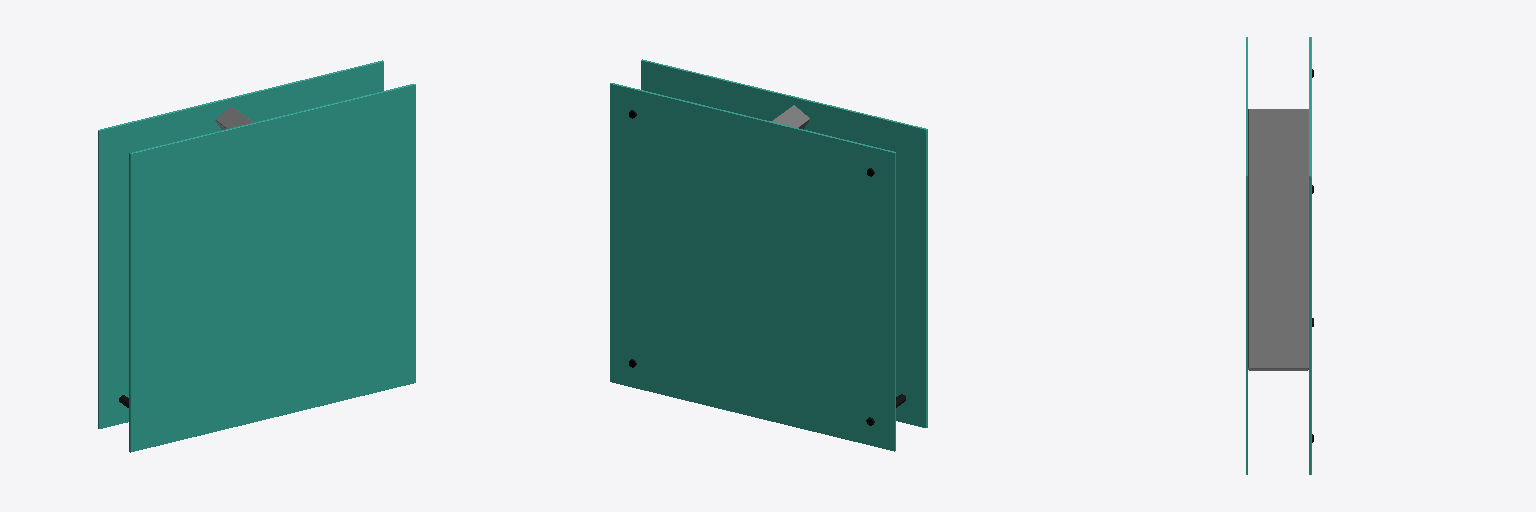
Rendered from Living_Divani_Plane_mat(1).obj.
The picture shows the model from 3 angles: view 1: azimuth 30°, elevation 25°; view 2: azimuth 150°, elevation 25°; view 3: azimuth 270°, elevation 25°; orthographic projection.
Parts seen in each view (by area): view 1: Living_Divani_Plane_mat1; view 2: Living_Divani_Plane_mat1; view 3: Living_Divani_Plane_mat1.
Part boxes in pixels (bbox=[...]): Living_Divani_Plane_mat1: bbox=[98, 60, 415, 452]; Living_Divani_Plane_mat1: bbox=[610, 59, 927, 451]; Living_Divani_Plane_mat1: bbox=[1246, 37, 1313, 474].
Bounding box in the file's own units: 120 × 120 × 25.